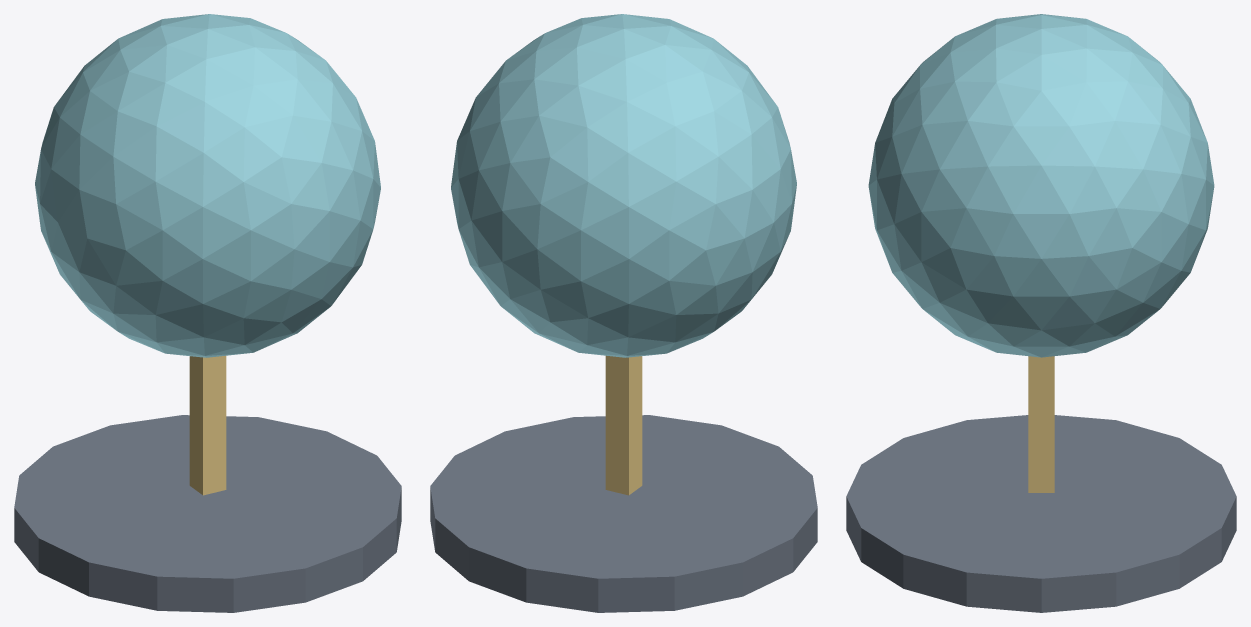
Rendered from globe-feature.glb.
3 renders of one model, left to right at view 1: azimuth 30°, elevation 25°; view 2: azimuth 150°, elevation 25°; view 3: azimuth 270°, elevation 25°, orthographic.
Parts seen in each view (by area): view 1: world; view 2: world; view 3: world.
Boxes of the visible parts, bbox=[...] form: world: bbox=[14, 14, 401, 612]; world: bbox=[430, 14, 817, 612]; world: bbox=[846, 14, 1236, 612].
Size of the model in its own units: 1.76 by 2.49 by 1.76.
